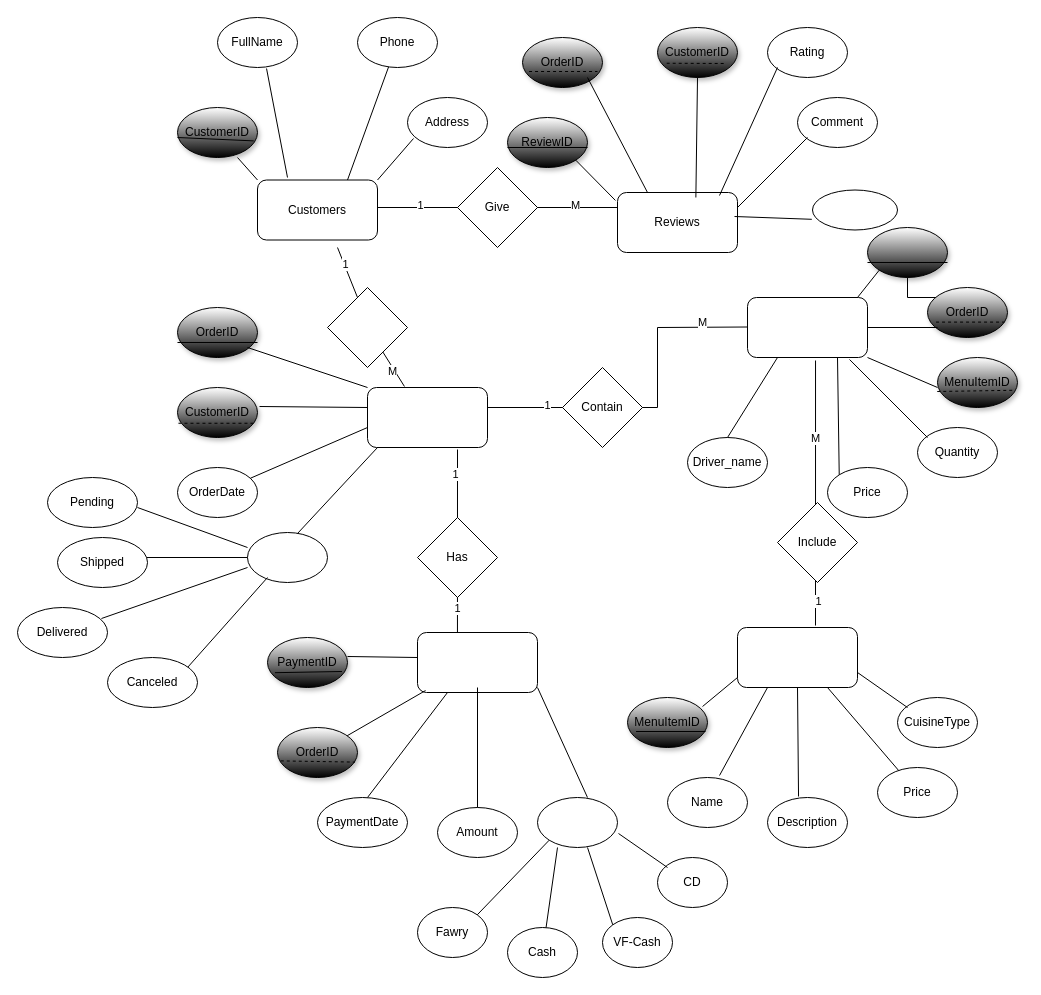
Some shapes in this 1041 by 995 pixel diagram are drawn without their labels. Each missing label, with the centre of its shape:
"Make" goes at point 367,327.
"MenuItems" goes at point 797,657.
"OrderDetailID" goes at point 908,253.
"OrderDetails" goes at point 807,327.
"Orders" goes at point 427,417.
"Payment Method" goes at point 577,822.
"Payments" goes at point 477,662.
"ReviewDate" goes at point 855,209.
"Status" goes at point 287,557.
